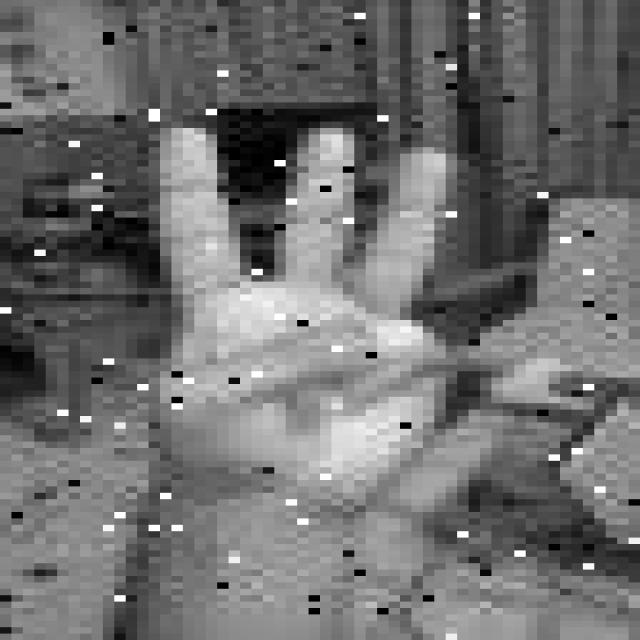W: (131, 122, 463, 506)
